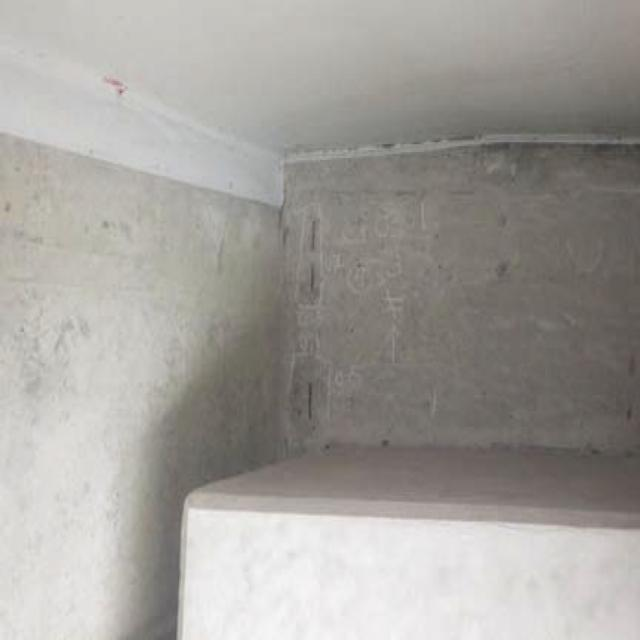spalling: (291, 210, 346, 441)
